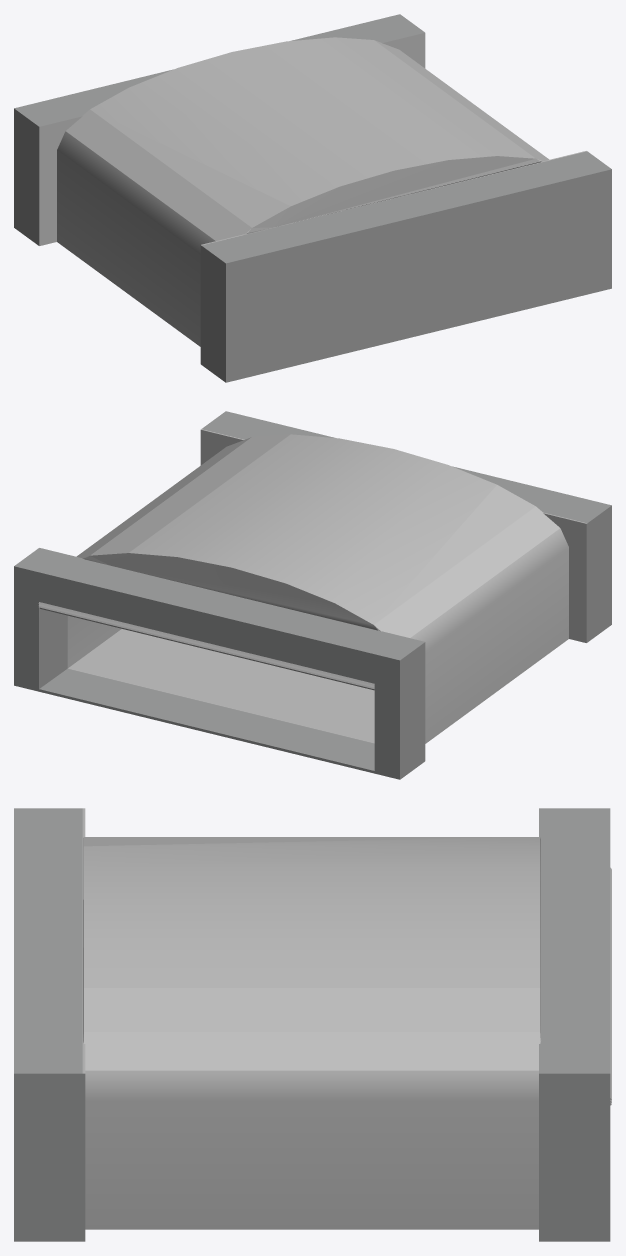
File: VehicleHangar_03.fbx
3 views of the same model, one above another, from view 1: azimuth 30°, elevation 25°; view 2: azimuth 150°, elevation 25°; view 3: azimuth 270°, elevation 25° (orthographic). The views are drawn at different scales.
Parts seen in each view (by area): view 1: VehicleHangar_03_Body; view 2: VehicleHangar_03_Body; view 3: VehicleHangar_03_Body.
Part boxes in pixels (box(x1,y1,x2,y2)): VehicleHangar_03_Body: box(14, 14, 611, 382); VehicleHangar_03_Body: box(14, 411, 611, 779); VehicleHangar_03_Body: box(14, 808, 611, 1241).
Size of the model in its own units: 110 by 39.98 by 105.
